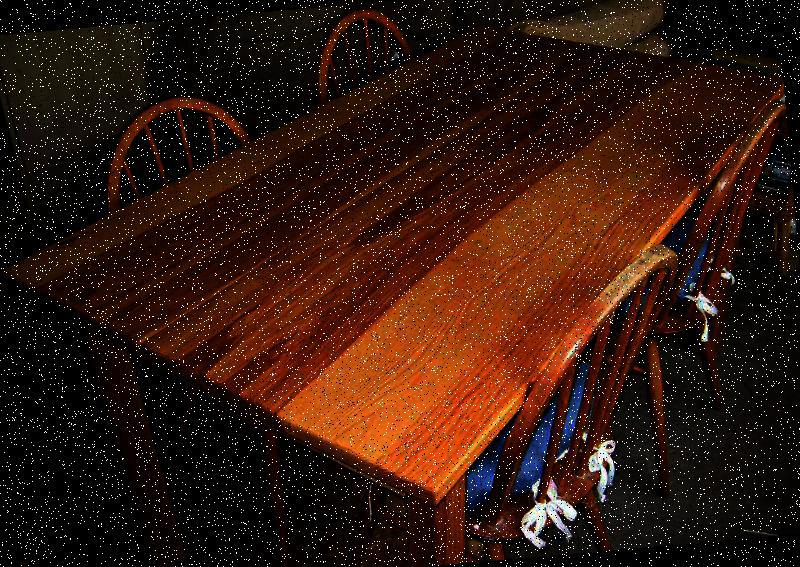Mesa: (0, 6, 799, 566)
Silla: (74, 75, 356, 566), (315, 216, 705, 566), (522, 90, 799, 433), (300, 0, 524, 302)
